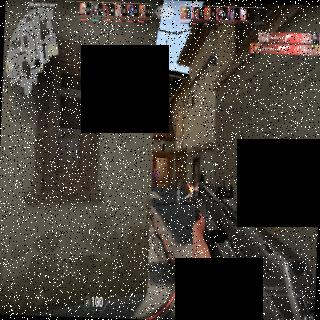ENEMY-BODY: (152, 164, 158, 188)
ENEMY-HEAD: (155, 166, 157, 171)
